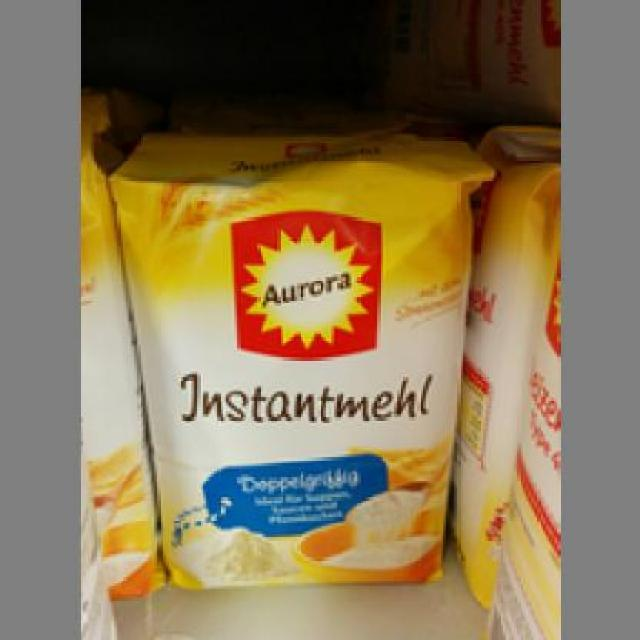Flour: (106, 125, 488, 586)
